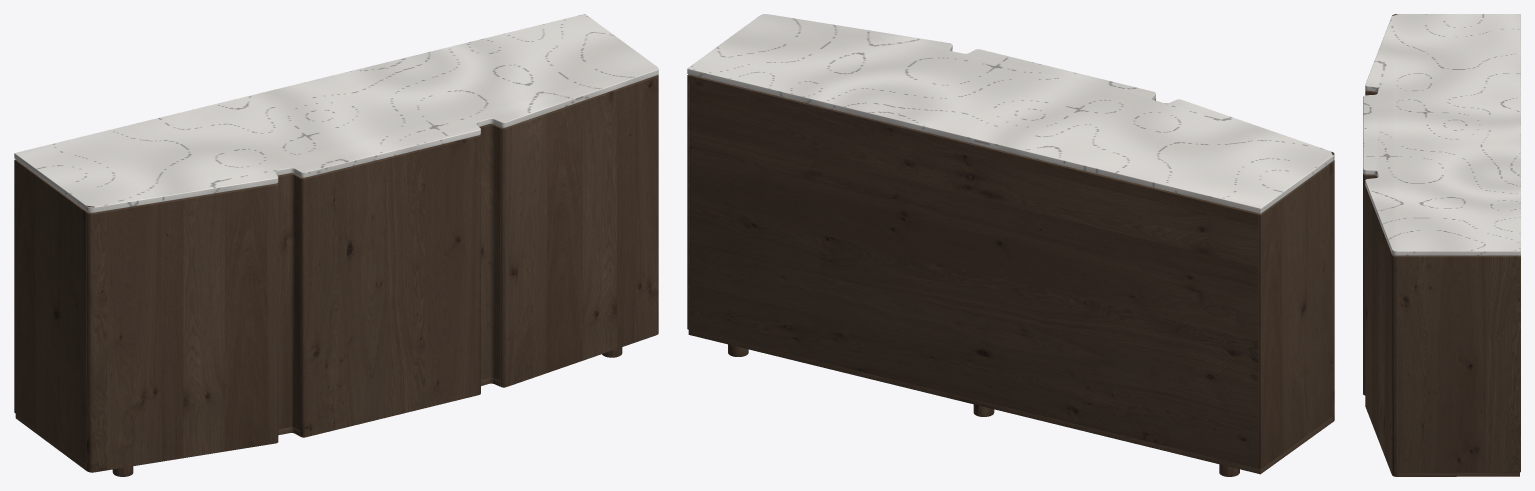
Rendered from z1_mesa_altar.obj.
3 views of the same model, side by side, from view 1: azimuth 30°, elevation 25°; view 2: azimuth 150°, elevation 25°; view 3: azimuth 270°, elevation 25° (orthographic). The views are drawn at different scales.
Visible parts, largest first — view 1: Konz; view 2: Konz; view 3: Konz.
Part boxes in pixels (x1,y1,x2,y2): Konz: (14, 14, 658, 476); Konz: (687, 14, 1334, 476); Konz: (1363, 14, 1520, 476).
Size of the model in its own units: 1.71 by 0.8 by 0.4796.
Materials: 2 (2 with a texture image).
